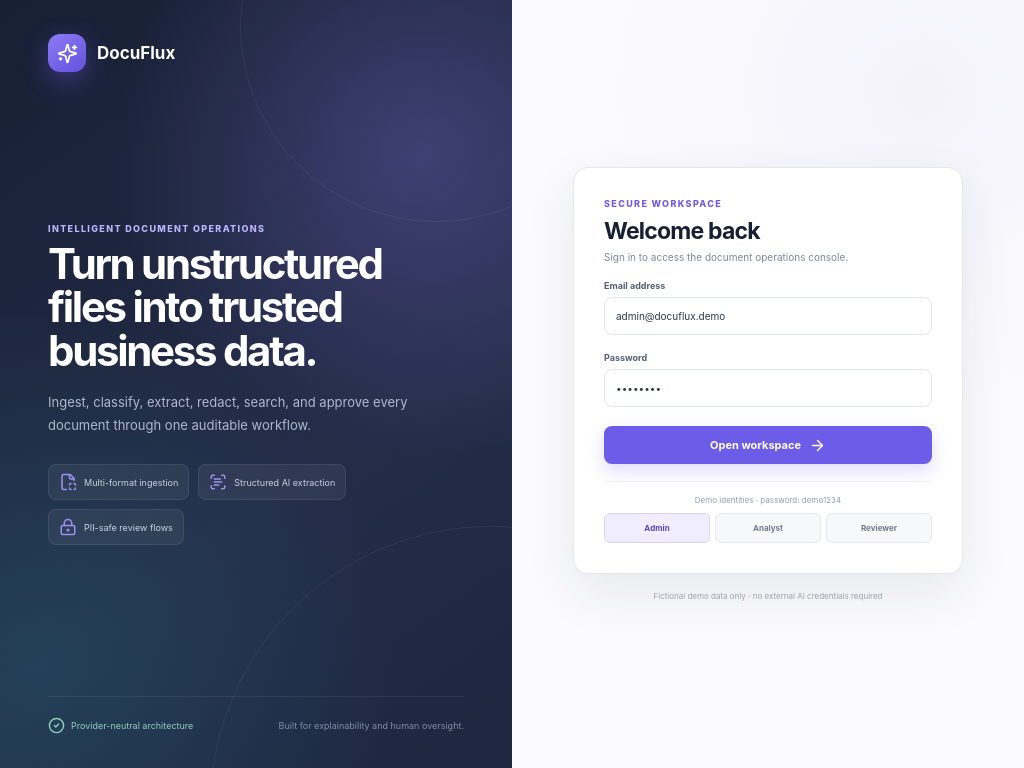
workspace components › offers role-specific demo identities on the login screen
The image size is (1024, 768).
Click the button "Reviewer" at [879, 528], box 826,513 -> 932,543
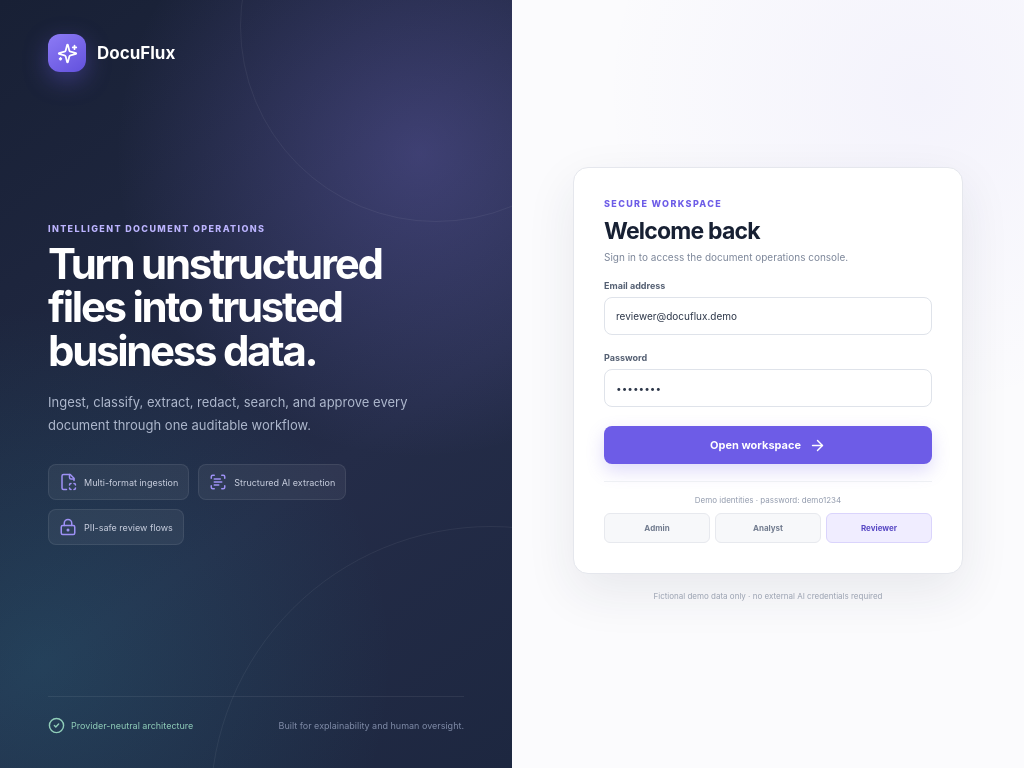
Result: the field showing "reviewer@docuflux.demo" is shown at 604,297 -> 932,335
